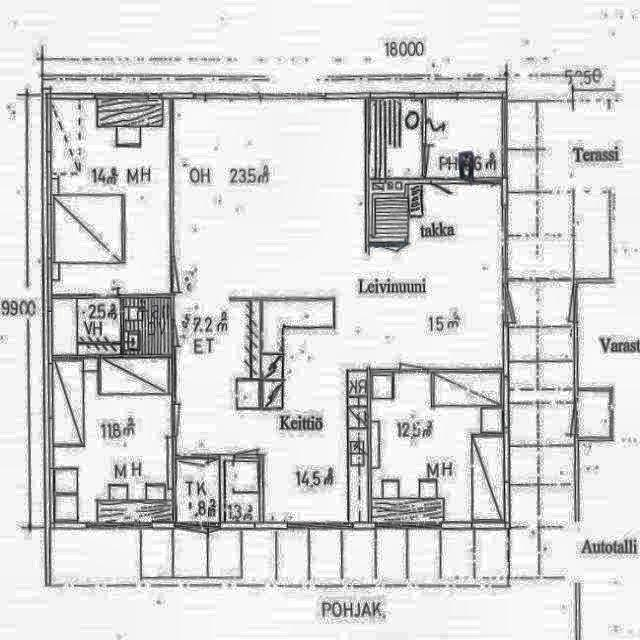room: (51, 98, 171, 294), (54, 358, 173, 522), (372, 374, 503, 522), (176, 459, 219, 523), (124, 298, 171, 354), (226, 462, 258, 521)
